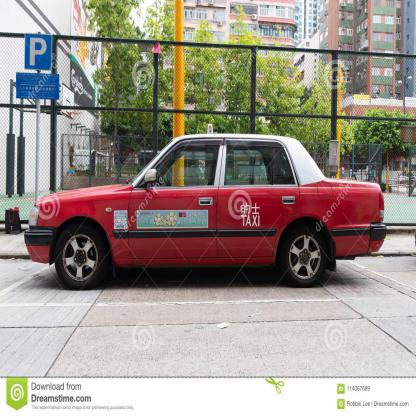taxi: (24, 123, 391, 304)
